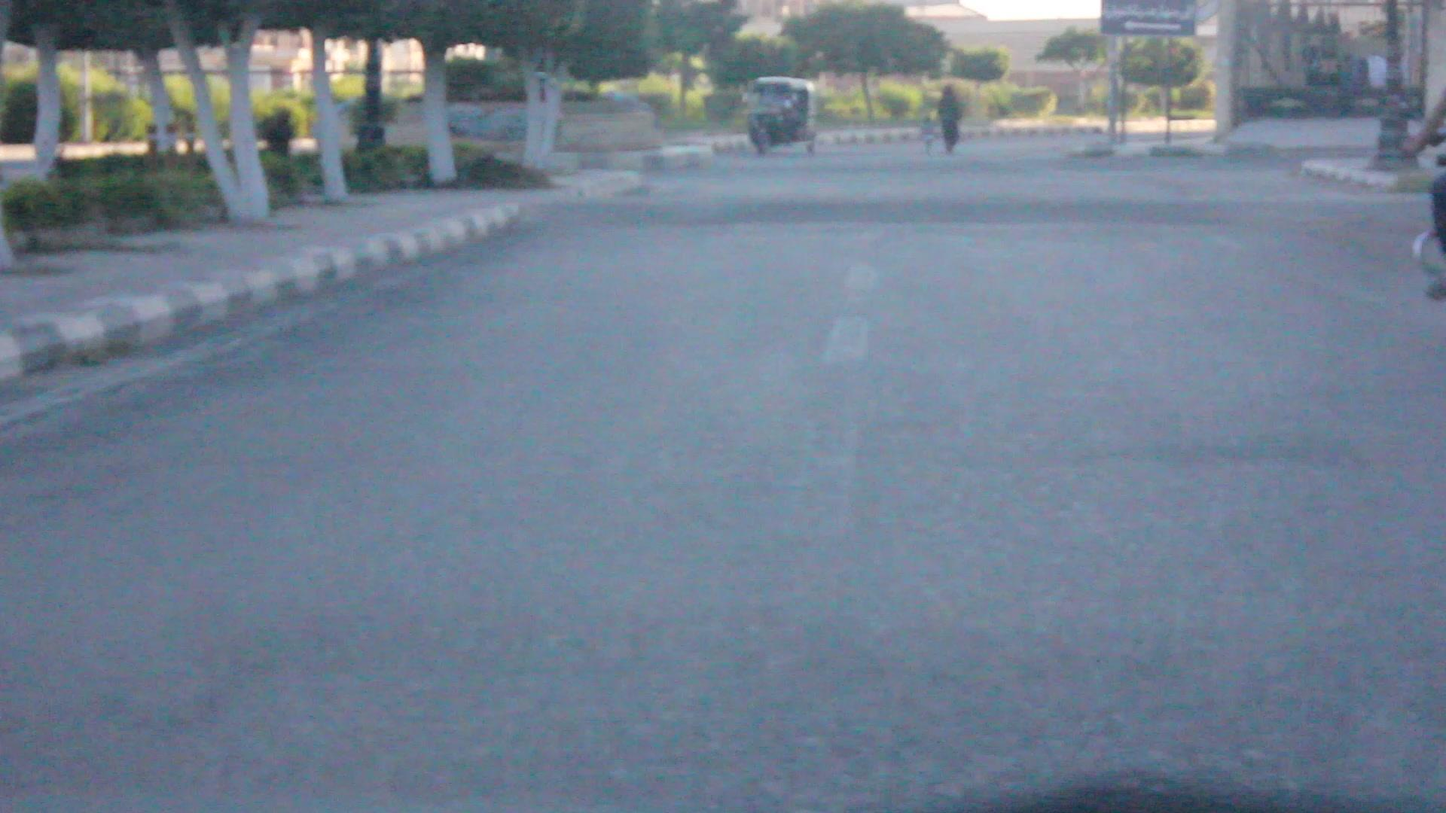Bump: (552, 190, 1376, 226)
